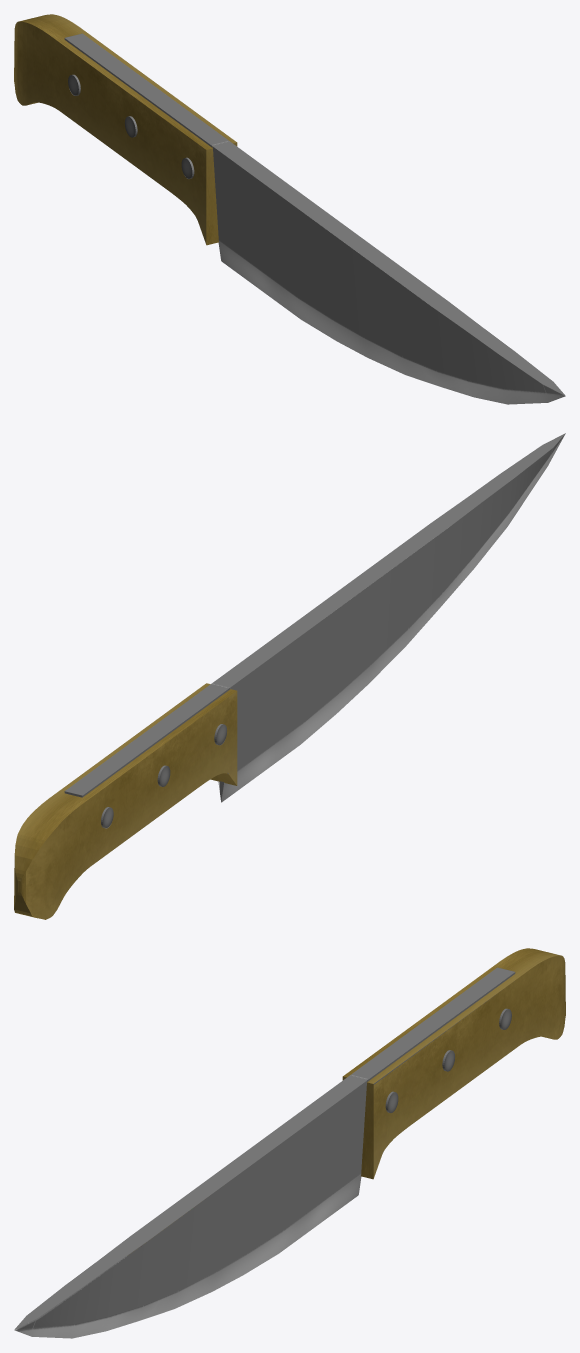
File: knife.fbx
3 views of the same model, one above another, from view 1: azimuth 30°, elevation 25°; view 2: azimuth 150°, elevation 25°; view 3: azimuth 330°, elevation 25° (orthographic).
Visible parts, largest first — view 1: Cube, Cube.001; view 2: Cube, Cube.001; view 3: Cube, Cube.001.
Boxes of the visible parts, x1,y1,x2,y2 form: Cube: (64,33,565,404); Cube.001: (14,14,237,245); Cube: (64,433,565,802); Cube.001: (14,683,237,919); Cube: (14,967,515,1338); Cube.001: (342,948,565,1179).
Size of the model in its own units: 106 by 343 by 2891.
